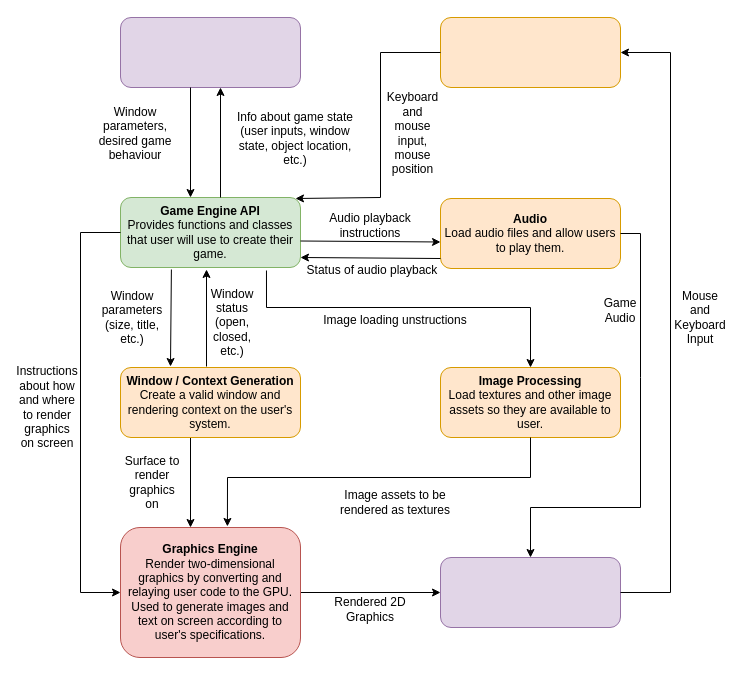
The diagram is 748 pixels wide and 675 high, and some of its shapes have lost their labels. The centre of each missing label's shape, as x and y in pixels:
Input Process keyboard and mouse input from player and relay it to user.: point (530, 52)
Player The player of a game created using our engine.: point (530, 592)
User The user-programmer who creates a game using our engine.: point (210, 52)
